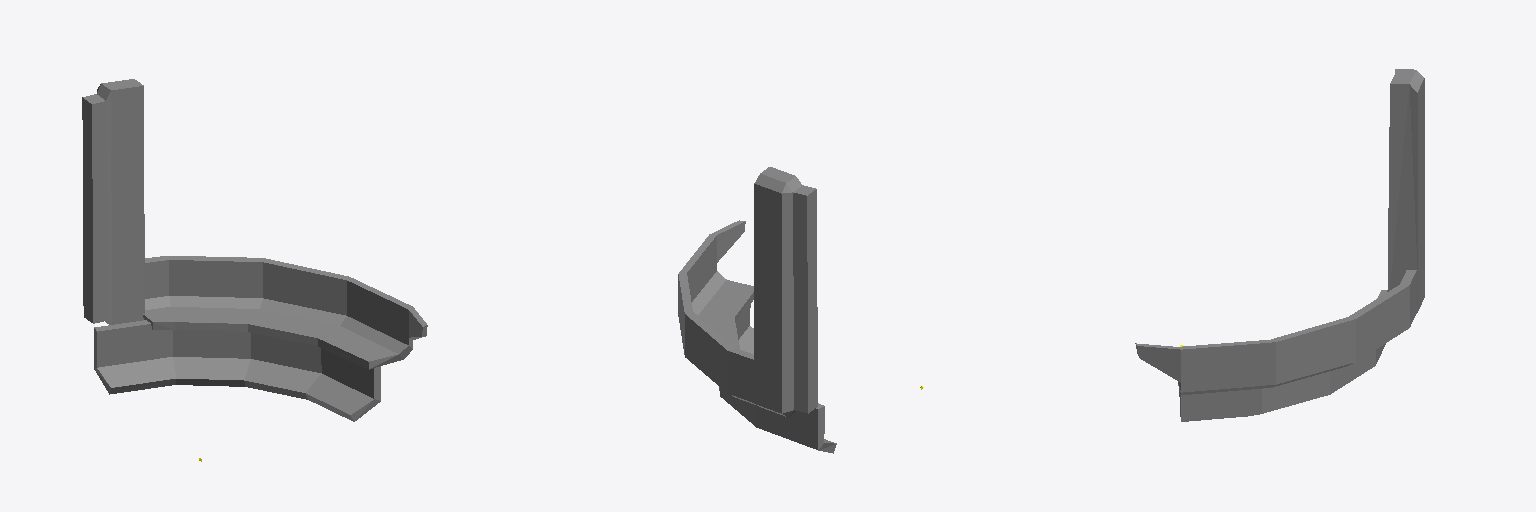
Rendered from cpz_obj_pipelinecapA_brk_009.obj.
3 renders of one model, left to right at view 1: azimuth 30°, elevation 25°; view 2: azimuth 150°, elevation 25°; view 3: azimuth 270°, elevation 25°, orthographic.
Visible parts, largest first — view 1: ccp_metal_yy_floor3_Cmn_dpn, ccp_metal_yy_gray_Cmn_dpn, cpz_metal_st1_floor01_Lumi_dpnE; view 2: ccp_metal_yy_floor3_Cmn_dpn, ccp_metal_yy_gray_Cmn_dpn, cpz_metal_st1_floor01_Lumi_dpnE; view 3: ccp_metal_yy_floor3_Cmn_dpn, ccp_metal_yy_gray_Cmn_dpn.
Boxes of the visible parts, box(x1,y1,x2,y2) form: ccp_metal_yy_floor3_Cmn_dpn: box(97, 79, 422, 361); ccp_metal_yy_gray_Cmn_dpn: box(82, 97, 427, 421); cpz_metal_st1_floor01_Lumi_dpnE: box(83, 94, 106, 323); ccp_metal_yy_floor3_Cmn_dpn: box(678, 167, 801, 416); ccp_metal_yy_gray_Cmn_dpn: box(679, 189, 836, 453); cpz_metal_st1_floor01_Lumi_dpnE: box(793, 185, 815, 412); ccp_metal_yy_floor3_Cmn_dpn: box(1138, 70, 1424, 394); ccp_metal_yy_gray_Cmn_dpn: box(1135, 270, 1416, 421).
Bounding box in the file's own units: 25.35 × 32.28 × 29.41.